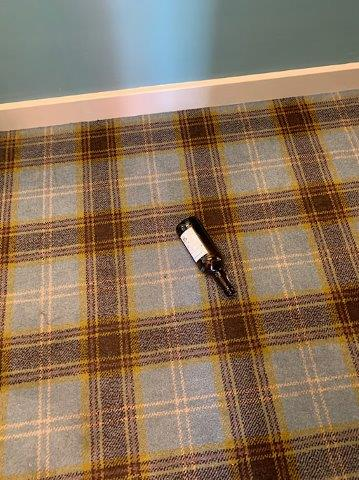botolkaca: (176, 217, 235, 297)
